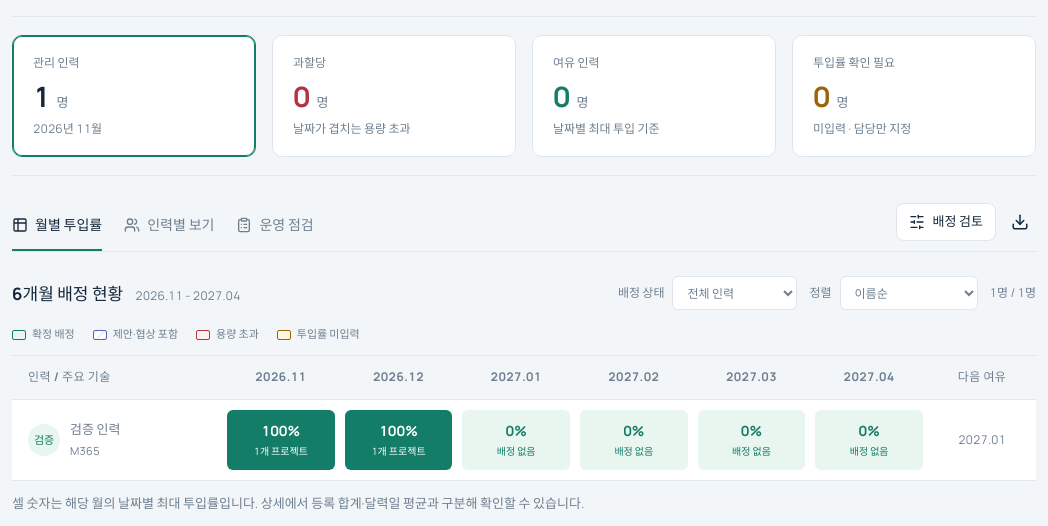
it: staffing workflow › preserves the original people view
The image size is (1048, 526).
Click the tab "인력별 보기" at [169, 226], box [124, 200, 214, 251]
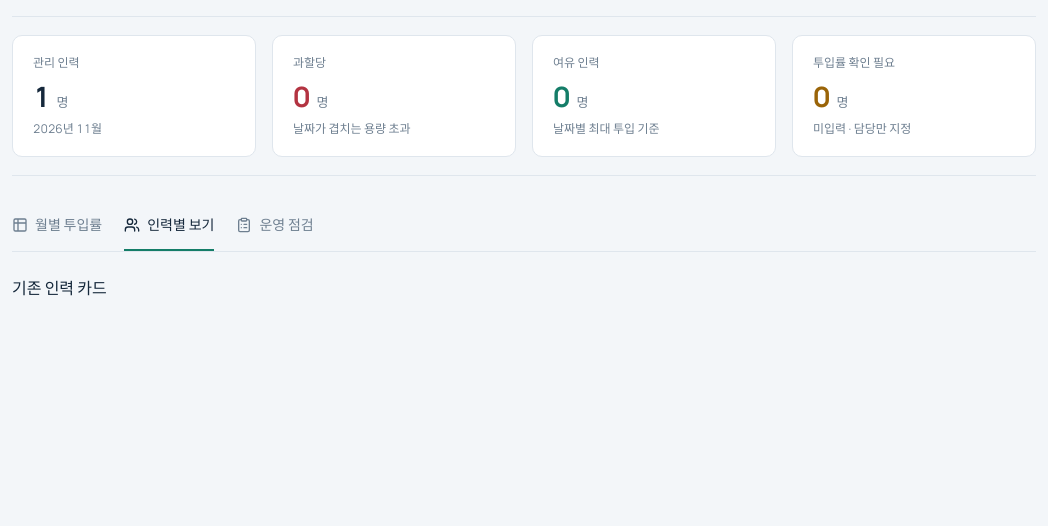
Expected: the text "기존 인력 카드" is shown, [12, 277, 107, 299]
